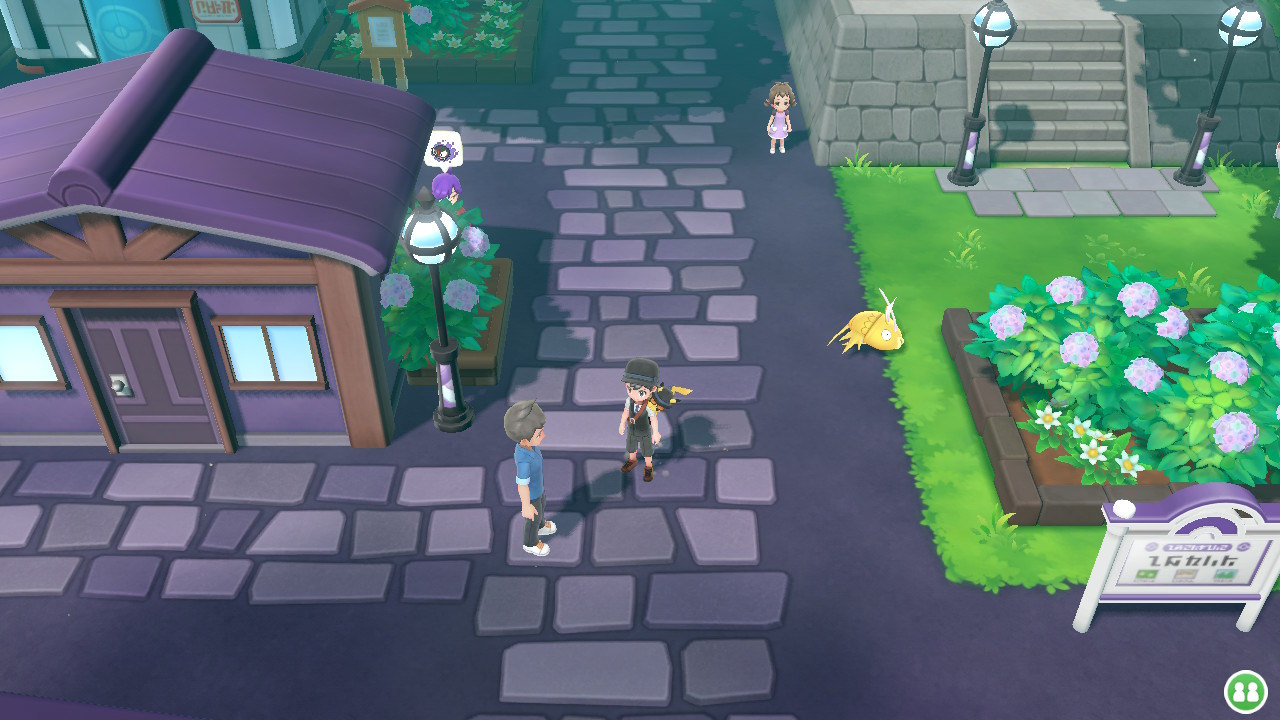Golden: (823, 287, 905, 354)
